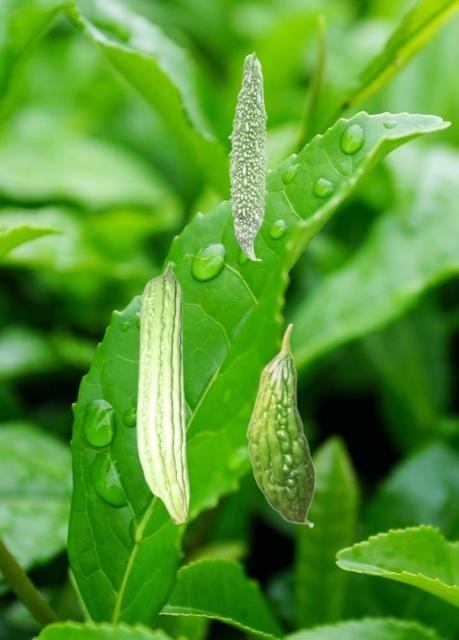ampalaya: (134, 262, 190, 526), (244, 323, 316, 528), (227, 51, 269, 261)
